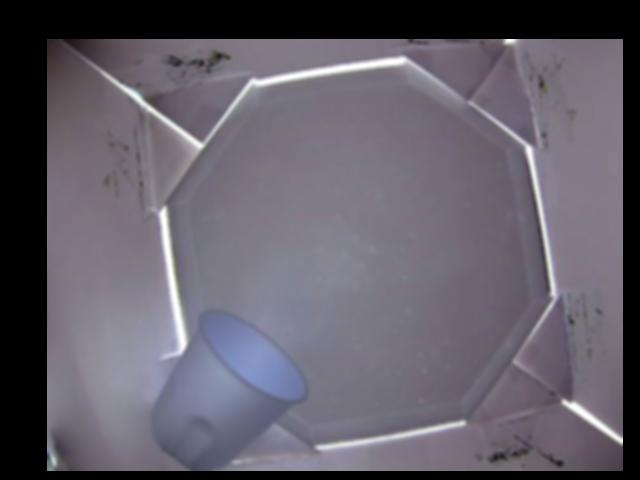Cup: (147, 310, 306, 471)
